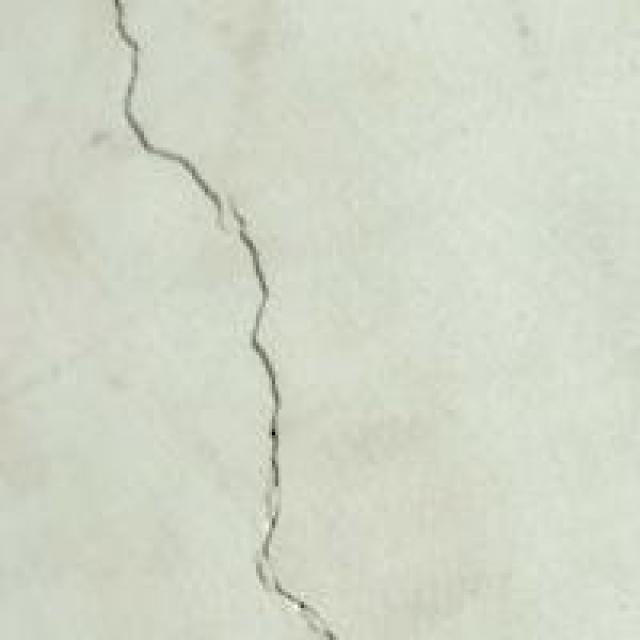Crack: (71, 0, 359, 637)
